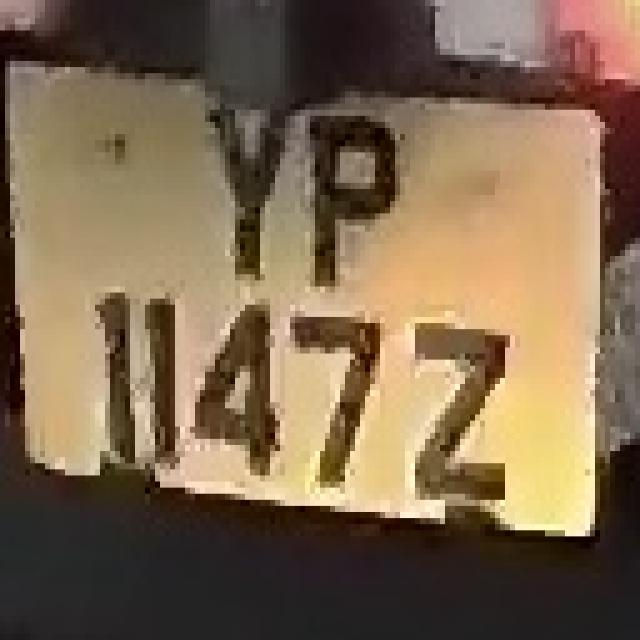1: (135, 292, 190, 506), (90, 268, 145, 476)
4: (175, 274, 295, 506)
7: (260, 286, 390, 536)
P: (295, 97, 405, 311)
Y: (175, 73, 285, 287)
Z: (385, 311, 525, 524)
